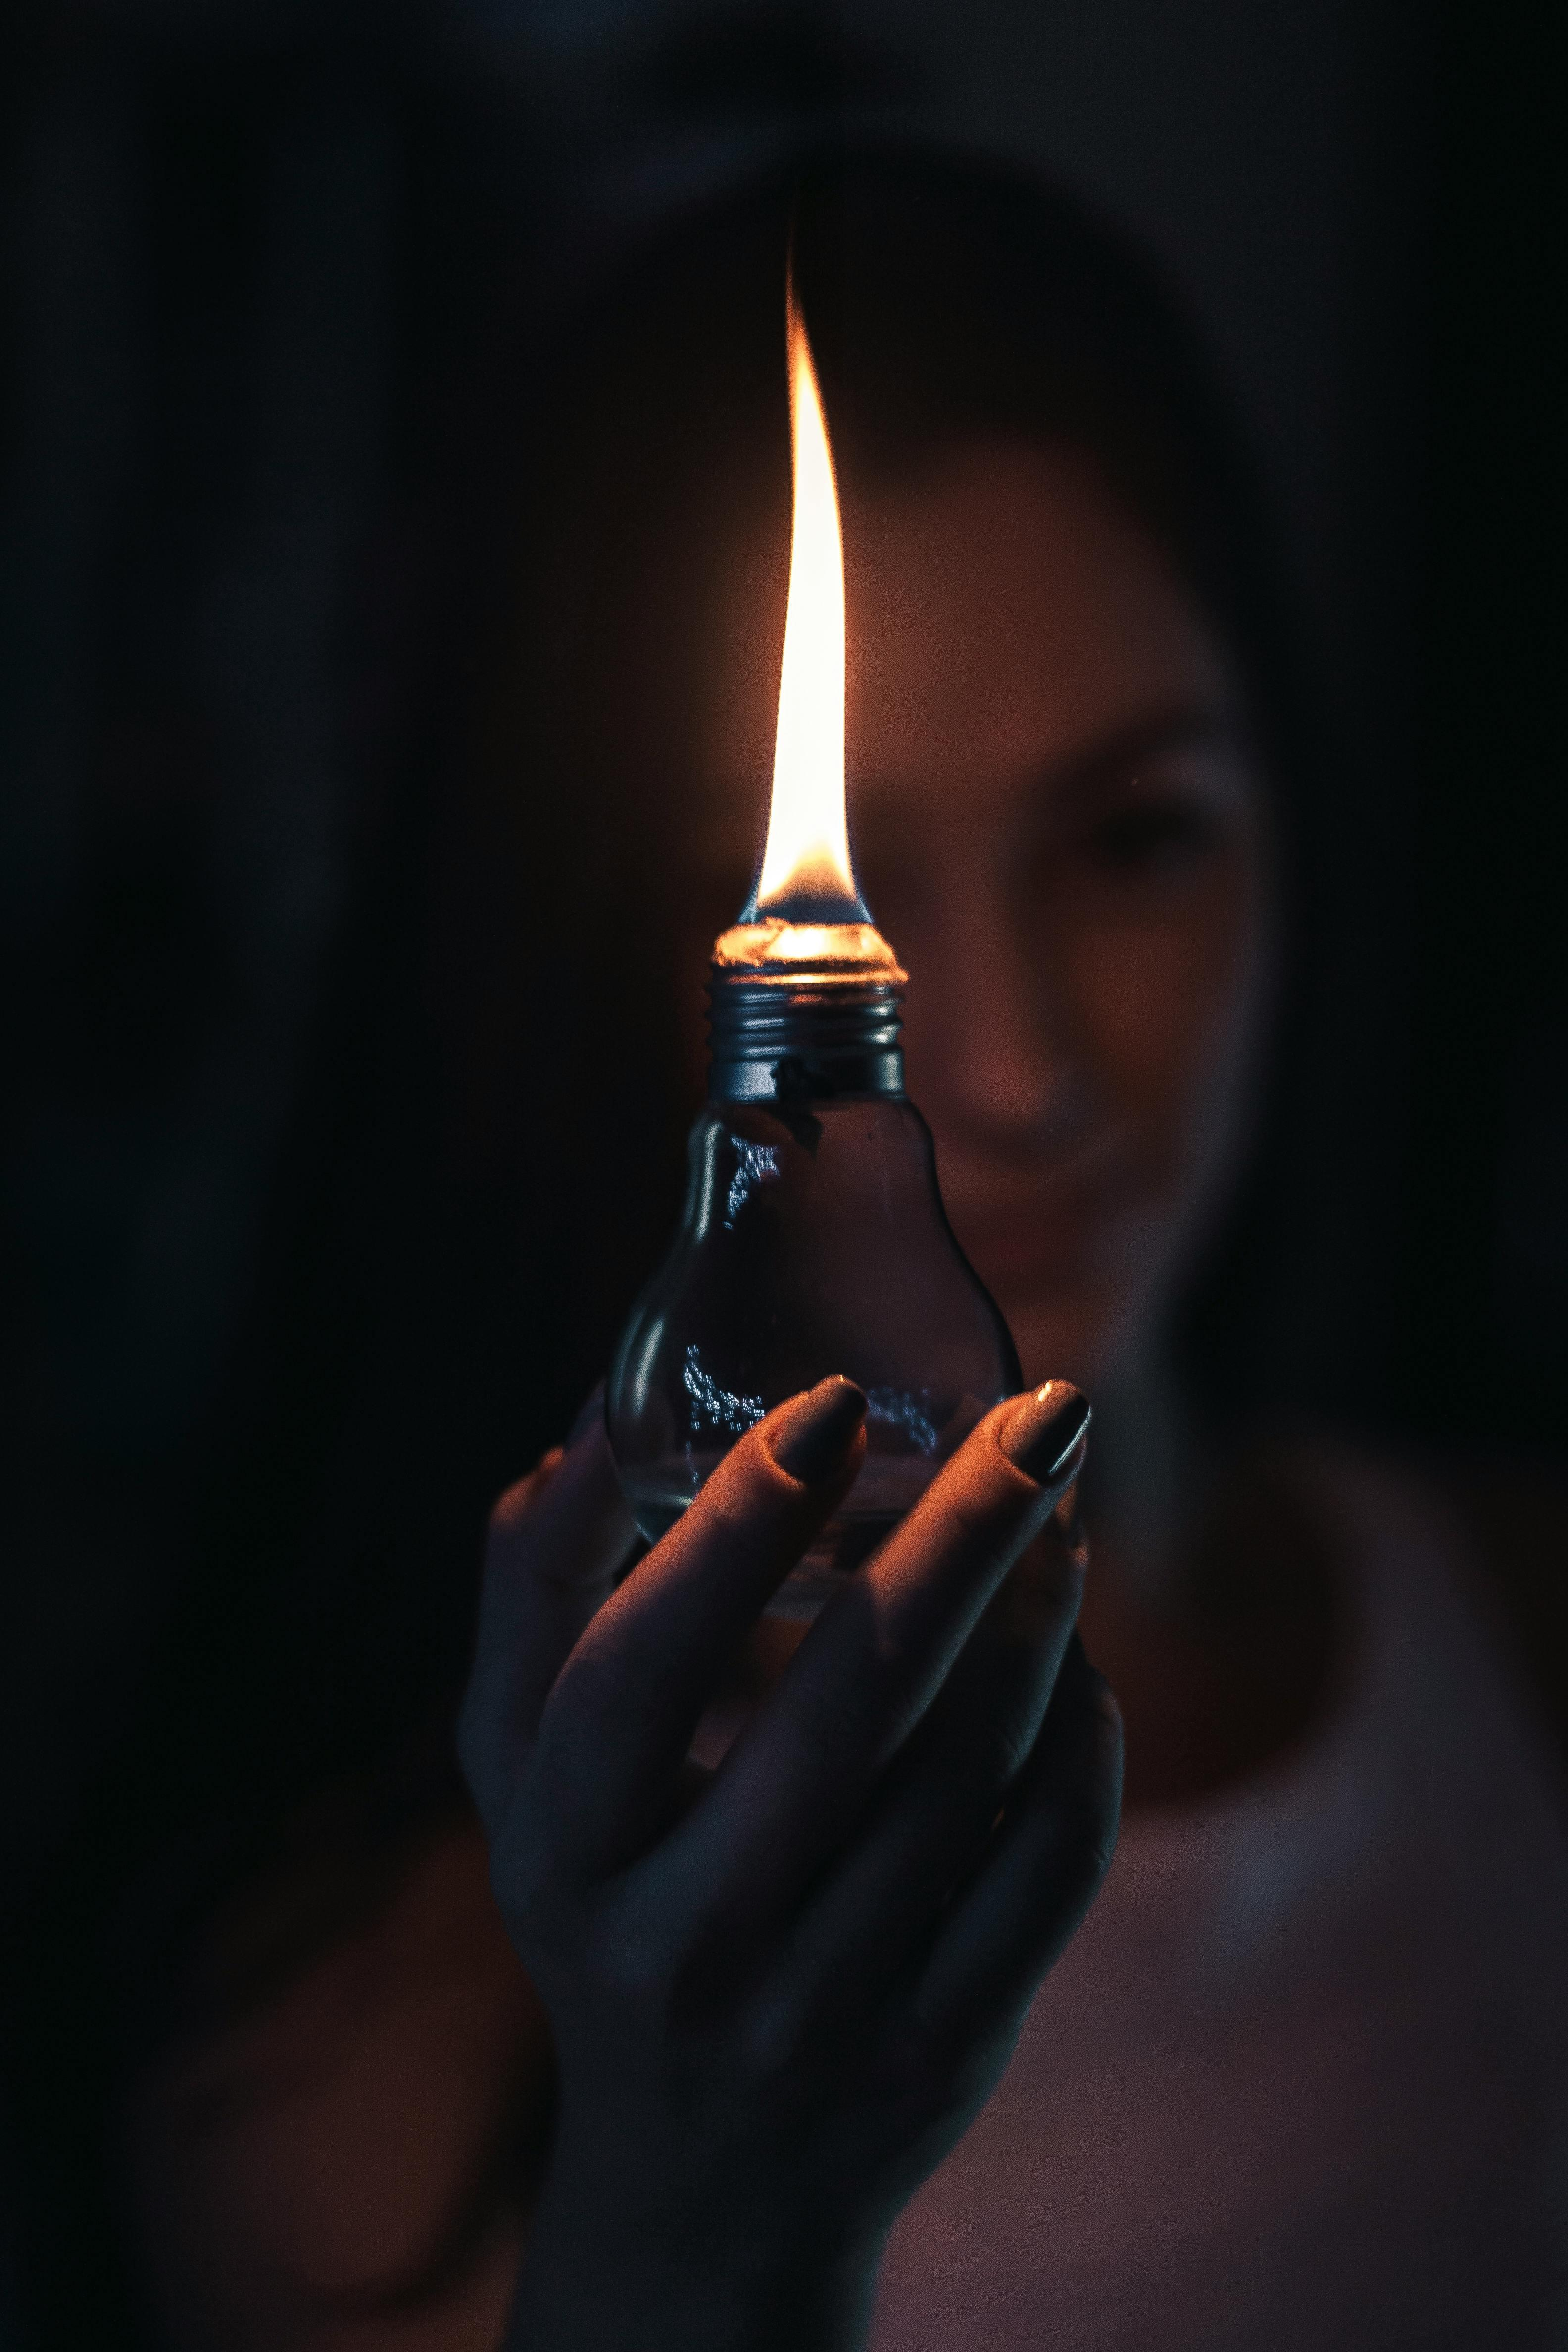Fire: (758, 278, 857, 926)
